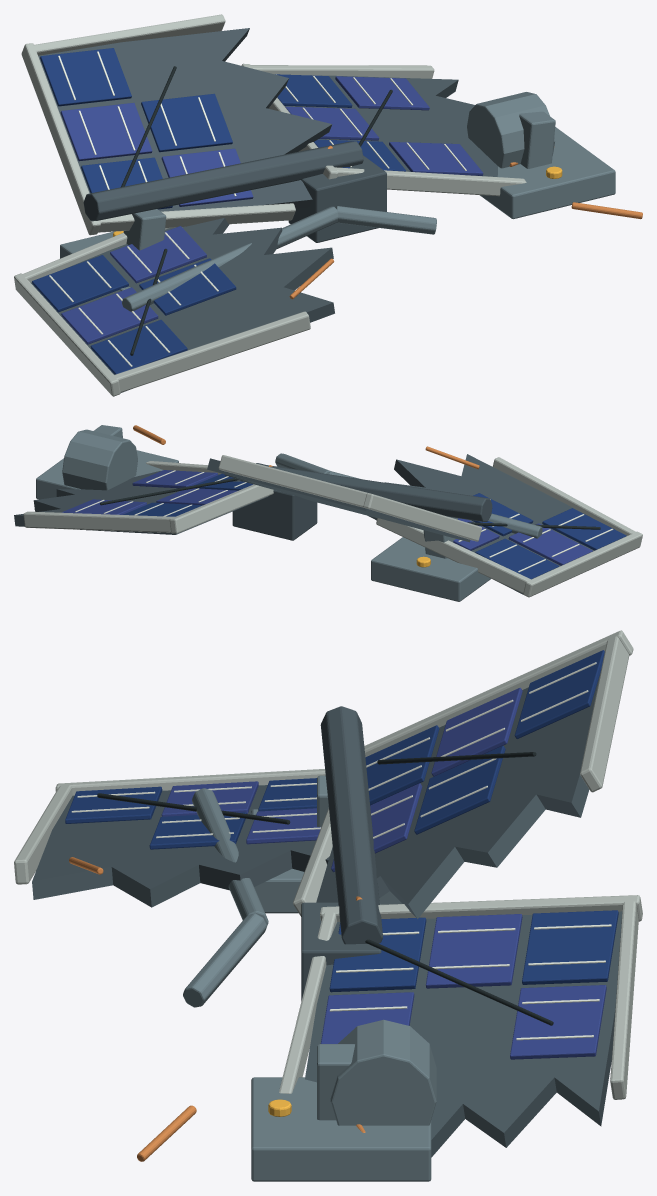
The model's file is solar_panel_rack_d3.glb.
3 renders of one model, top to bottom at view 1: azimuth 30°, elevation 25°; view 2: azimuth 150°, elevation 25°; view 3: azimuth 270°, elevation 25°, orthographic. The views are drawn at different scales.
Visible parts, largest first — view 1: JAGGED_PV_BACKING_002, JAGGED_PV_BACKING, SNAPPED_TRACKING_AXLE, RACK_ANCHOR_FOOTING_001, JAGGED_PV_BACKING_001, RACK_JUNCTION_BOX, TORN_ALUMINUM_FRAME, SURVIVING_PHOTOVOLTAIC_CELL_012, SURVIVING_PHOTOVOLTAIC_CELL_011, SURVIVING_PHOTOVOLTAIC_CELL_014, DETACHED_TRACKING_DRIVE, SURVIVING_PHOTOVOLTAIC_CELL_002 (+24 smaller); view 2: JAGGED_PV_BACKING, RACK_ANCHOR_FOOTING, DETACHED_TRACKING_DRIVE, SNAPPED_TRACKING_AXLE, RACK_JUNCTION_BOX, JAGGED_PV_BACKING_001, TORN_ALUMINUM_FRAME_003, TORN_ALUMINUM_FRAME_005, TORN_ALUMINUM_FRAME_001, PANEL_ALUMINUM_SIDE_FRAME, PANEL_ALUMINUM_SIDE_FRAME_002, PANEL_ALUMINUM_SIDE_FRAME_001 (+20 smaller); view 3: JAGGED_PV_BACKING_001, JAGGED_PV_BACKING_002, JAGGED_PV_BACKING, RACK_ANCHOR_FOOTING_001, SNAPPED_TRACKING_AXLE, DETACHED_TRACKING_DRIVE, SURVIVING_PHOTOVOLTAIC_CELL_007, SURVIVING_PHOTOVOLTAIC_CELL_009, SURVIVING_PHOTOVOLTAIC_CELL_006, SURVIVING_PHOTOVOLTAIC_CELL_005, PANEL_ALUMINUM_SIDE_FRAME_001, SURVIVING_PHOTOVOLTAIC_CELL_012 (+26 smaller).
Boxes of the visible parts, <box> form: JAGGED_PV_BACKING_002: <box>38,28,332,211</box>; JAGGED_PV_BACKING: <box>31,218,334,392</box>; SNAPPED_TRACKING_AXLE: <box>83,141,363,221</box>; RACK_ANCHOR_FOOTING_001: <box>479,127,615,219</box>; JAGGED_PV_BACKING_001: <box>284,75,497,176</box>; RACK_JUNCTION_BOX: <box>288,155,386,242</box>; TORN_ALUMINUM_FRAME: <box>113,311,310,392</box>; SURVIVING_PHOTOVOLTAIC_CELL_012: <box>40,48,131,106</box>; SURVIVING_PHOTOVOLTAIC_CELL_011: <box>60,102,152,161</box>; SURVIVING_PHOTOVOLTAIC_CELL_014: <box>141,93,232,152</box>; DETACHED_TRACKING_DRIVE: <box>467,92,554,168</box>; SURVIVING_PHOTOVOLTAIC_CELL_002: <box>32,255,128,312</box>; JAGGED_PV_BACKING: <box>368,454,594,594</box>; RACK_ANCHOR_FOOTING: <box>371,537,513,601</box>; DETACHED_TRACKING_DRIVE: <box>62,429,137,490</box>; SNAPPED_TRACKING_AXLE: <box>241,463,492,521</box>; RACK_JUNCTION_BOX: <box>232,463,317,540</box>; JAGGED_PV_BACKING_001: <box>14,471,268,534</box>; TORN_ALUMINUM_FRAME_003: <box>23,511,174,532</box>; TORN_ALUMINUM_FRAME_005: <box>218,455,367,507</box>; TORN_ALUMINUM_FRAME_001: <box>376,518,531,593</box>; PANEL_ALUMINUM_SIDE_FRAME: <box>523,531,642,597</box>; PANEL_ALUMINUM_SIDE_FRAME_002: <box>363,493,481,541</box>; PANEL_ALUMINUM_SIDE_FRAME_001: <box>169,484,273,533</box>; JAGGED_PV_BACKING_001: <box>305,911,622,1157</box>; JAGGED_PV_BACKING_002: <box>316,674,600,918</box>; JAGGED_PV_BACKING: <box>32,785,329,907</box>; RACK_ANCHOR_FOOTING_001: <box>251,1077,431,1181</box>; SNAPPED_TRACKING_AXLE: <box>320,706,382,944</box>; DETACHED_TRACKING_DRIVE: <box>330,1019,436,1125</box>; SURVIVING_PHOTOVOLTAIC_CELL_007: <box>522,910,618,984</box>; SURVIVING_PHOTOVOLTAIC_CELL_009: <box>510,985,606,1059</box>; SURVIVING_PHOTOVOLTAIC_CELL_006: <box>426,914,522,988</box>; SURVIVING_PHOTOVOLTAIC_CELL_005: <box>329,917,426,992</box>; PANEL_ALUMINUM_SIDE_FRAME_001: <box>320,895,642,921</box>; SURVIVING_PHOTOVOLTAIC_CELL_012: <box>514,650,604,738</box>.
Size of the model in its own units: 4.42 by 1.33 by 2.97.
